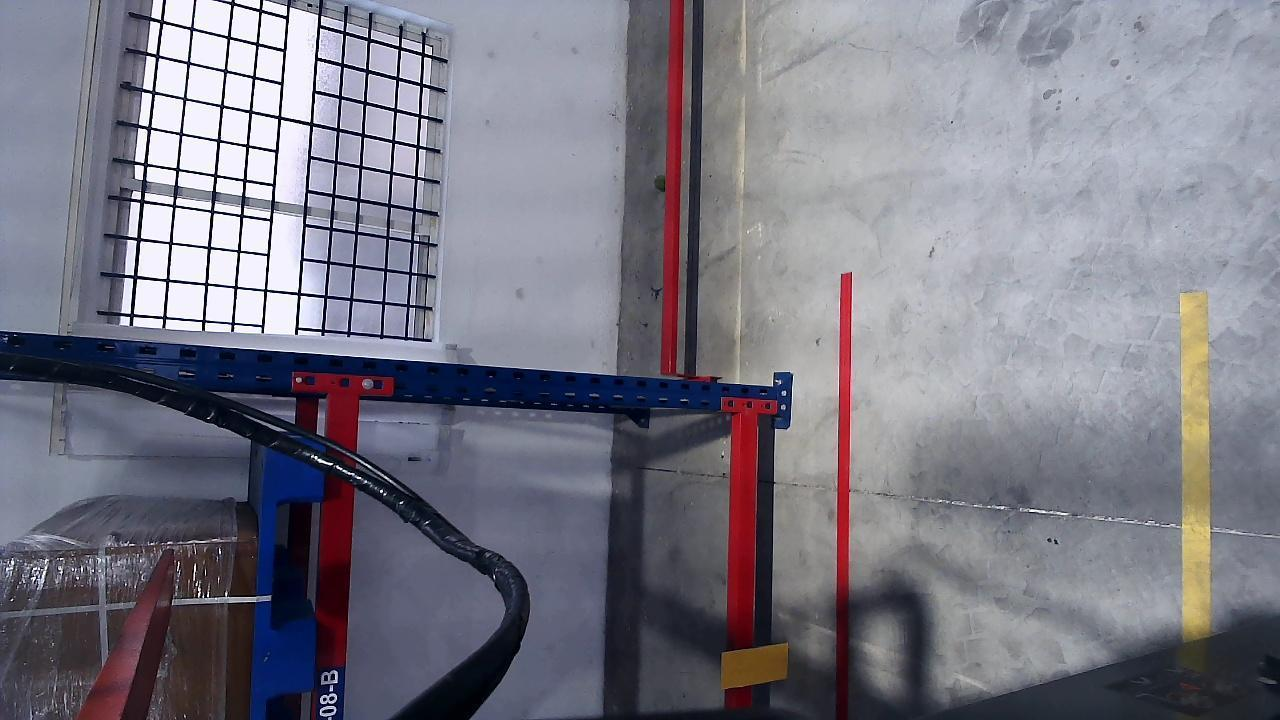red_line: (830, 270, 851, 720)
yellow_line: (1180, 298, 1213, 635)
